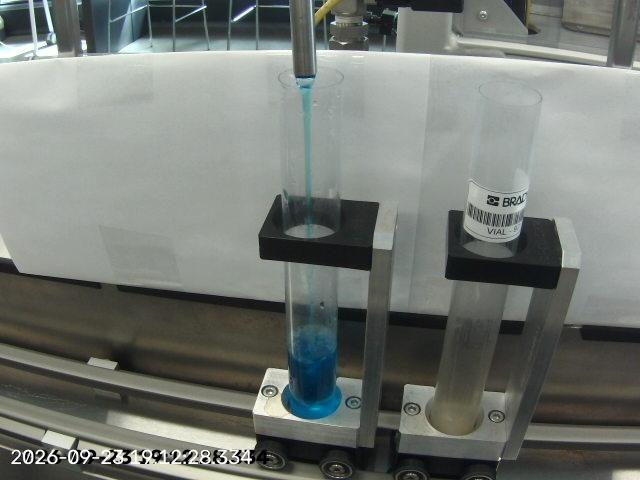vial: (427, 80, 544, 437), (276, 67, 346, 423)
